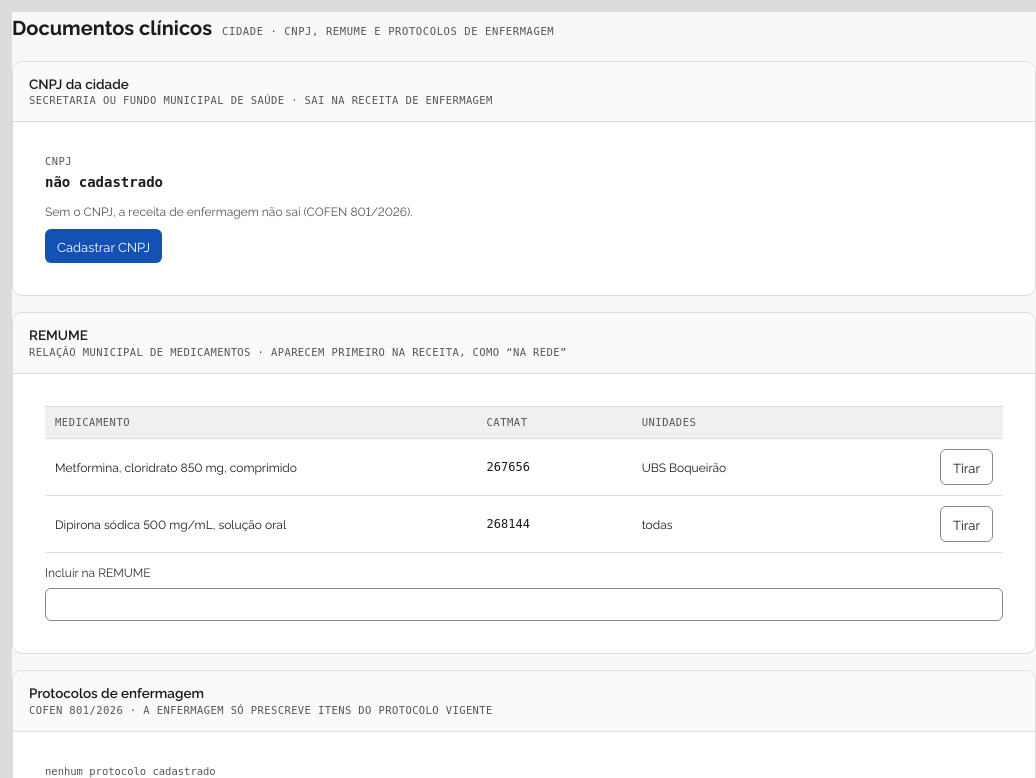
Scenario: ClinicalDocumentsAdmin › CNPJ: 422 invalid_cnpj do api tem frase própria
The image size is (1036, 778).
Step 1. Click the button "Cadastrar CNPJ" → [103, 246], box [45,229,162,263]
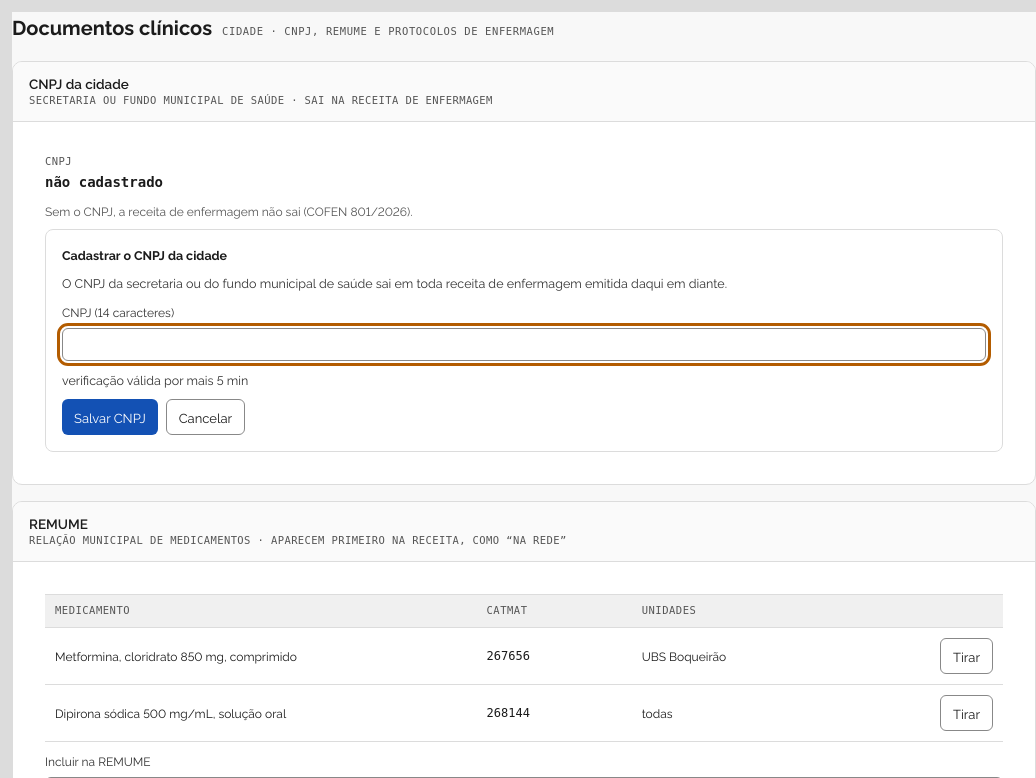
Step 2. Type "11.222.333/0001-81" into the field labelled "CNPJ (14 caracteres)" → [524, 344], box [62,328,986,361]
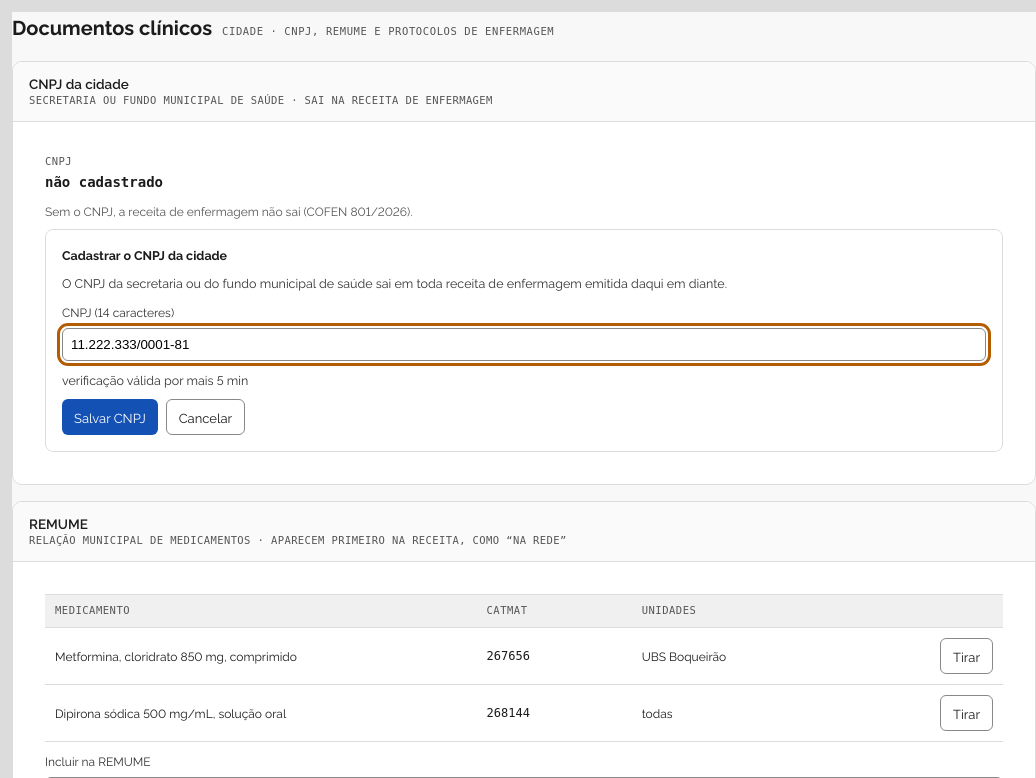
Step 3. Click the button "Salvar CNPJ" → [110, 417], box [62,399,158,435]
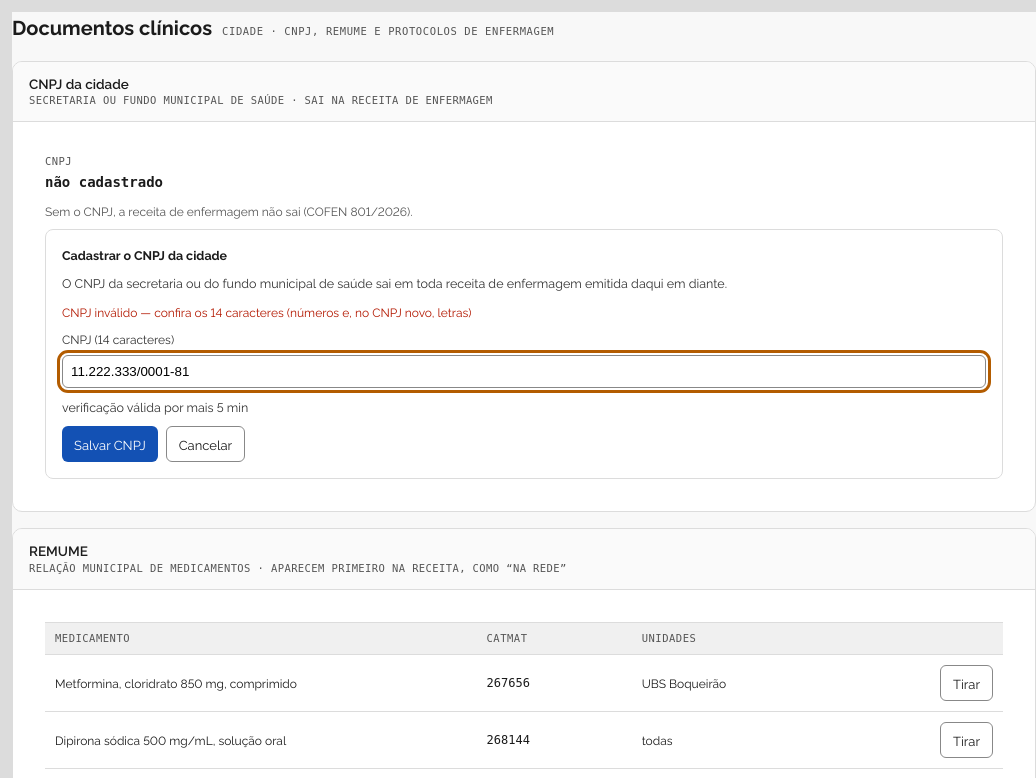
expect the message reads "CNPJ inválido — confira os 14 caracteres (números e, no CNPJ novo, letras)": met, box [62,303,472,320]
